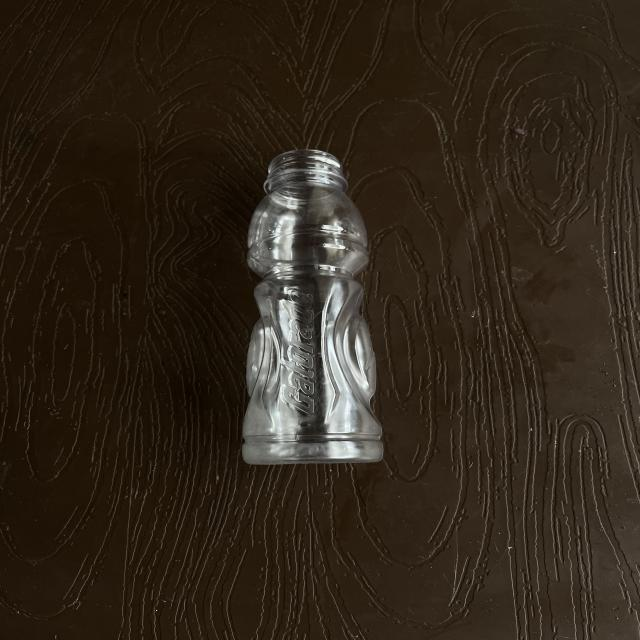PET_ClearBottle: (230, 148, 403, 463)
